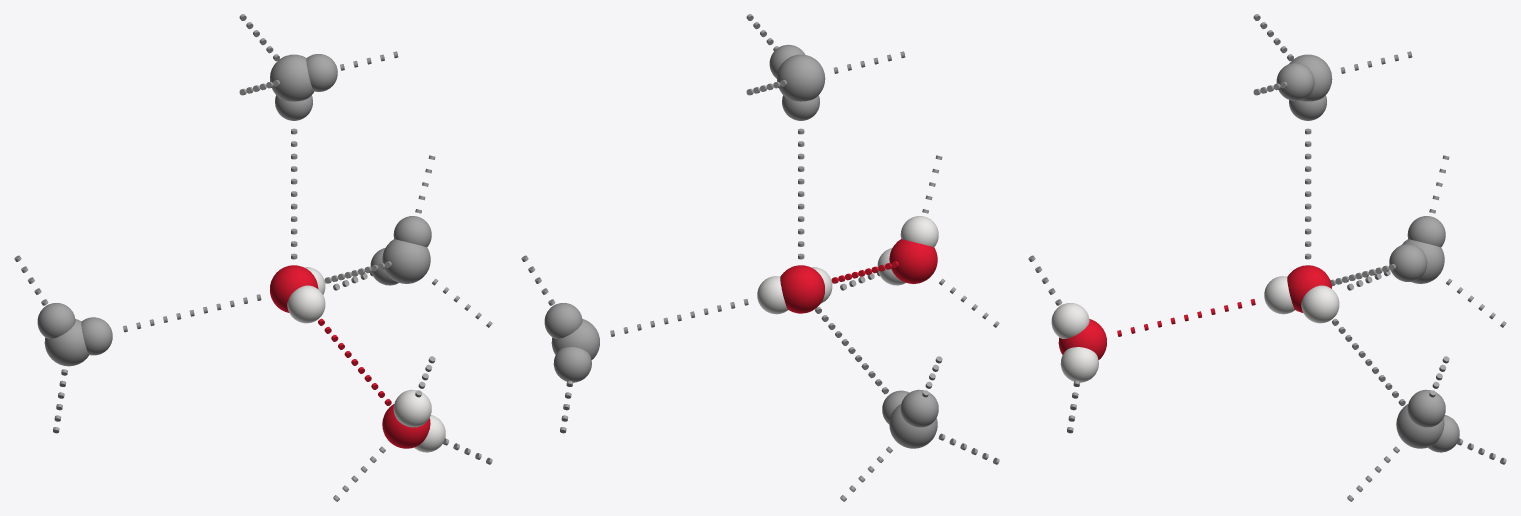
Rendered from fenzijingti3.FBX.
The picture shows the model from 3 angles, left to right: view 1: azimuth 30°, elevation 25°; view 2: azimuth 150°, elevation 25°; view 3: azimuth 270°, elevation 25°; orthographic projection.
Parts seen in each view (by area): view 1: Sphere114; view 2: Sphere114; view 3: Sphere114.
Boxes of the visible parts, left/top/right/bottom form: Sphere114: left=14, top=14, right=492, bottom=501; Sphere114: left=521, top=14, right=999, bottom=501; Sphere114: left=1028, top=14, right=1506, bottom=501.
Size of the model in its own units: 79.52 by 59.56 by 74.96.
Materials: 1 (1 with a texture image).
